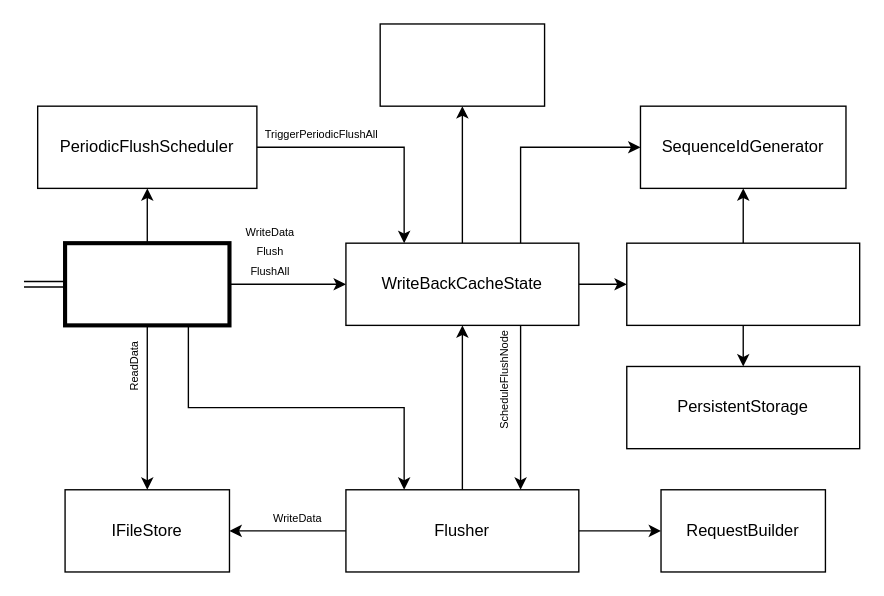
This 884x596 diagram has some shape labels left out. Here are the shapes that lost their labels. From the top down, the centre of each, then its label:
At [462,64]: "NodeCache".
At [146,283]: "WriteBackCache".
At [742,283]: "PersistentRequestStorage".
